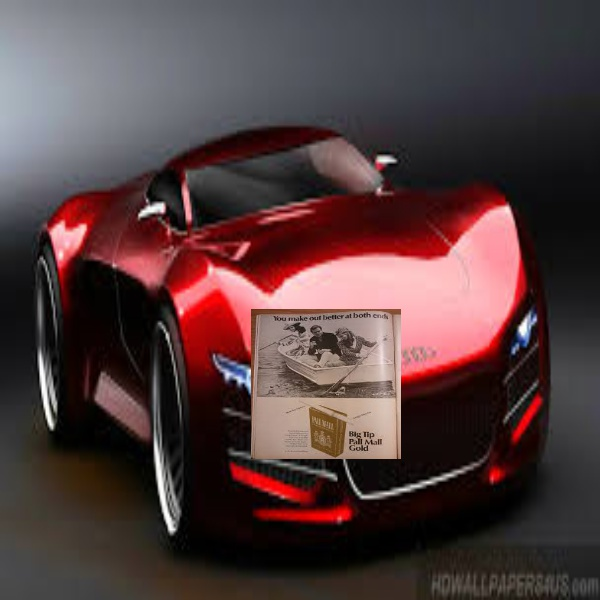time_cover: (244, 297, 418, 470)
